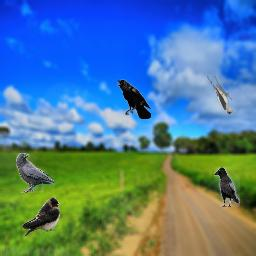Crow: (16, 153, 54, 193), (117, 79, 151, 119), (214, 167, 240, 207)
Cuckoo: (207, 75, 233, 115)
Swallow: (22, 197, 60, 237)
